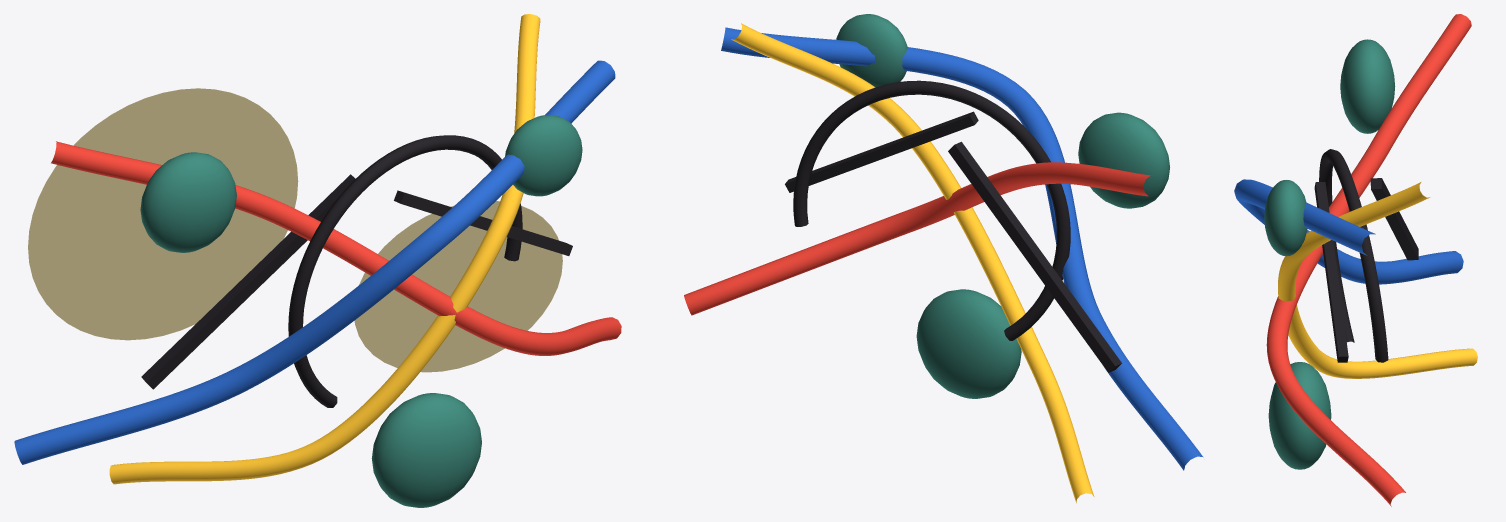
The model's file is aic-8991-v1.glb.
The picture shows the model from 3 angles, left to right: view 1: azimuth 30°, elevation 25°; view 2: azimuth 150°, elevation 25°; view 3: azimuth 270°, elevation 25°; orthographic projection. The views are drawn at different scales.
Parts seen in each view (by area): view 1: SpatialDiscs, FloatingColorNotes, CobaltWave, GoldWave, BlackCounterpoint, VermilionWave; view 2: FloatingColorNotes, BlackCounterpoint, CobaltWave, GoldWave, VermilionWave; view 3: FloatingColorNotes, VermilionWave, GoldWave, BlackCounterpoint, CobaltWave.
Part boxes in pixels (x1,y1,x2,y2): SpatialDiscs: (28,88,562,372); FloatingColorNotes: (140,115,582,507); CobaltWave: (14,60,615,464); GoldWave: (109,14,540,484); BlackCounterpoint: (141,135,572,407); VermilionWave: (51,141,621,355); FloatingColorNotes: (836,14,1169,398); BlackCounterpoint: (785,80,1121,372); CobaltWave: (721,27,1203,470); GoldWave: (731,23,1094,503); VermilionWave: (684,162,1153,315); FloatingColorNotes: (1264,39,1395,469); VermilionWave: (1266,14,1471,506); GoldWave: (1278,182,1477,378); BlackCounterpoint: (1314,149,1418,362); CobaltWave: (1234,179,1463,284).
Size of the model in its own units: 1.32 by 0.8761 by 0.5709.
